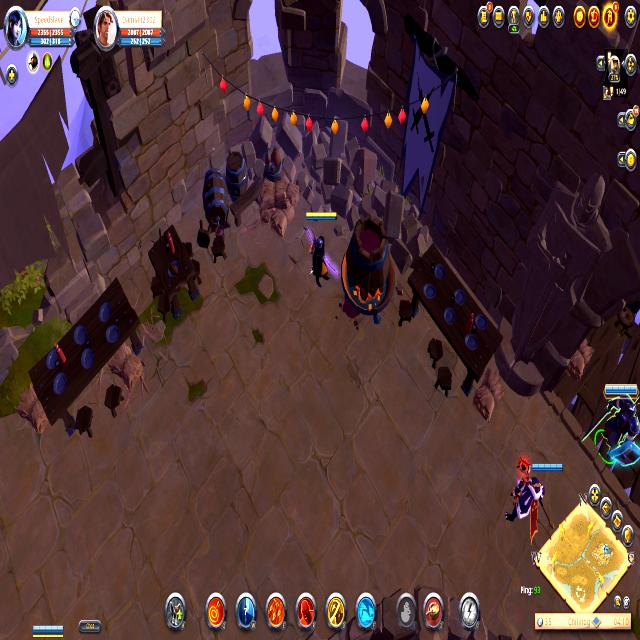red: (505, 453, 561, 528), (592, 378, 640, 465), (302, 208, 340, 290), (30, 620, 66, 639)
